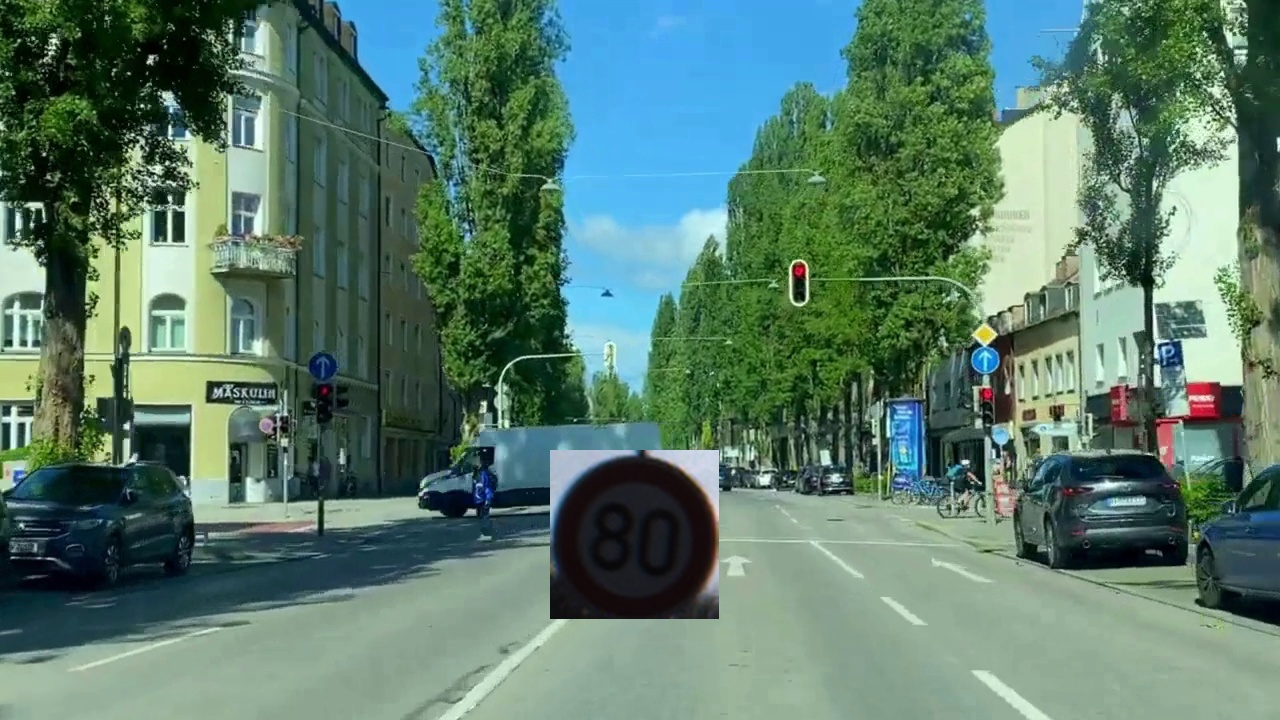Speed 80: (550, 450, 719, 619)
